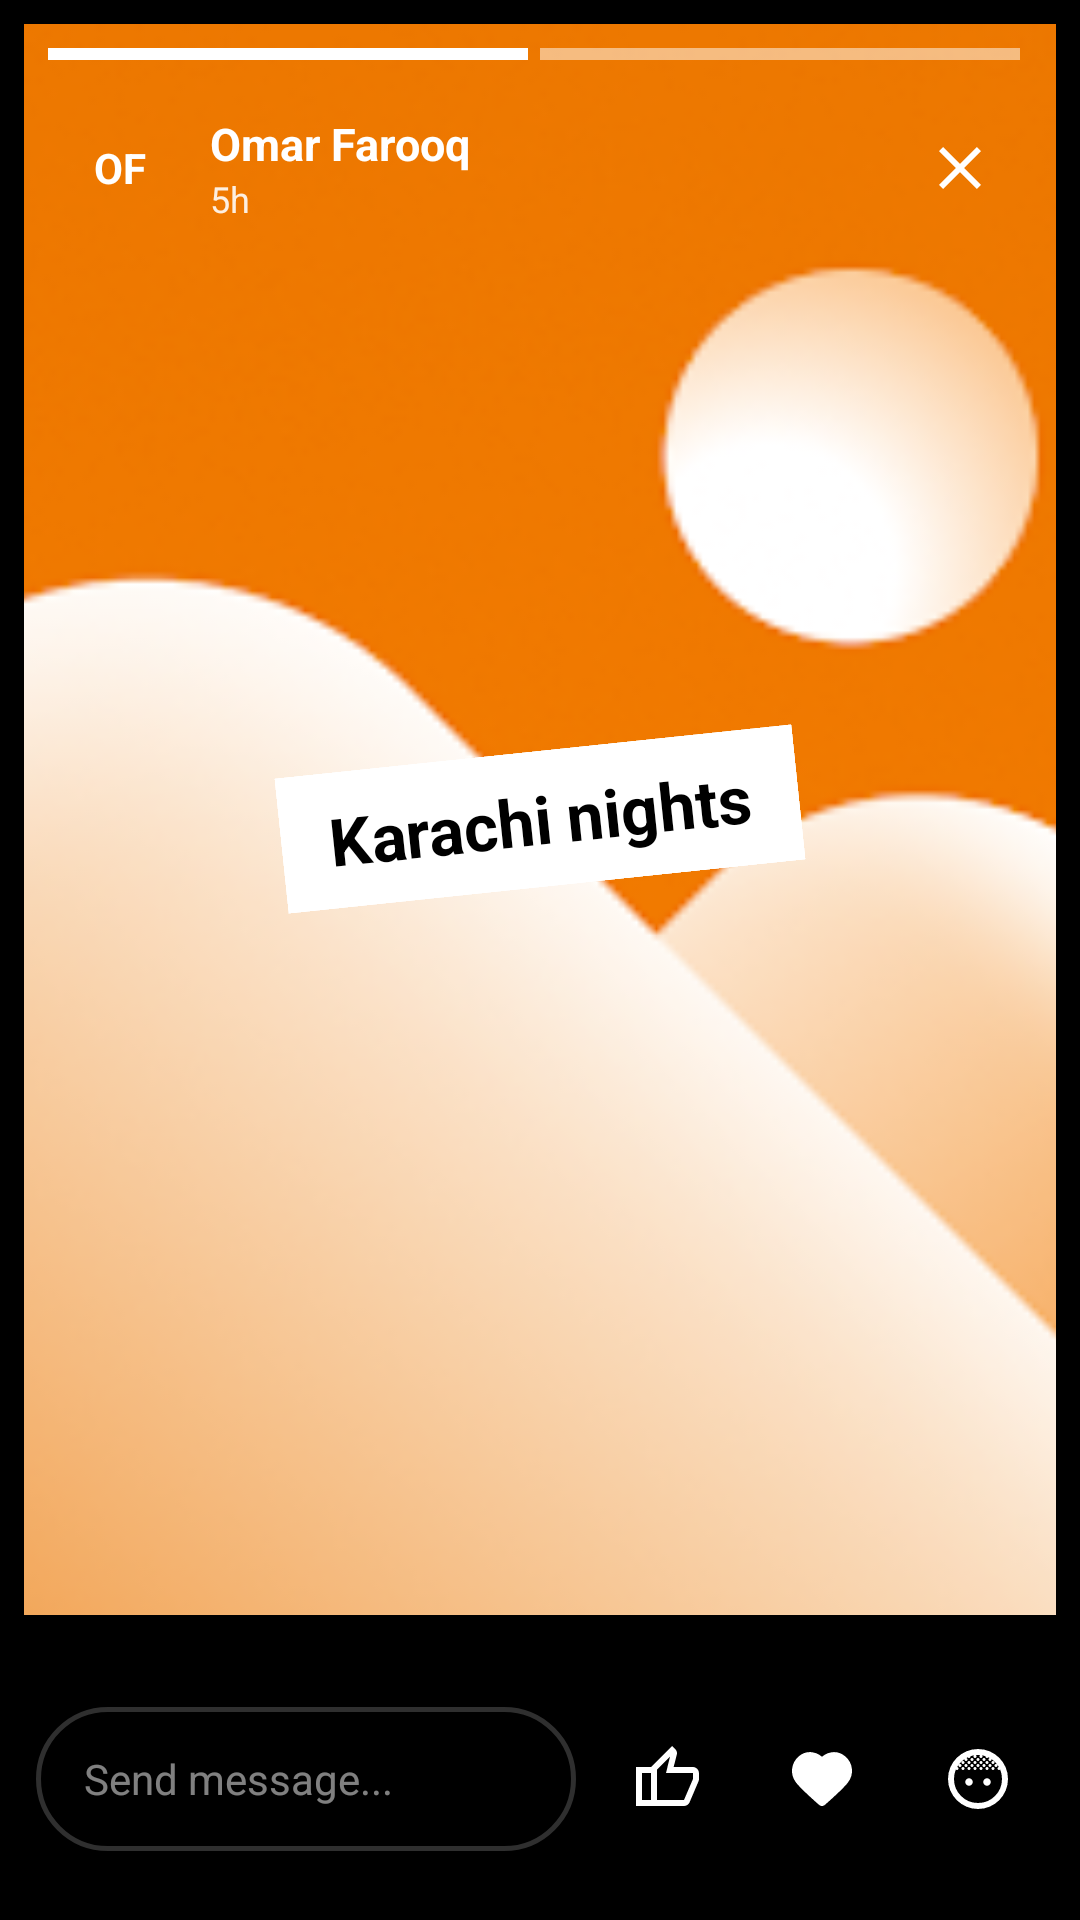

Icon bounding boxes for this 1080px x 1920px phone screenshot, format (x1, y1, x2, y2):
close: (939, 147, 981, 189)
face: (948, 1749, 1008, 1809)
heart: (792, 1752, 852, 1806)
like: (636, 1746, 699, 1806)
